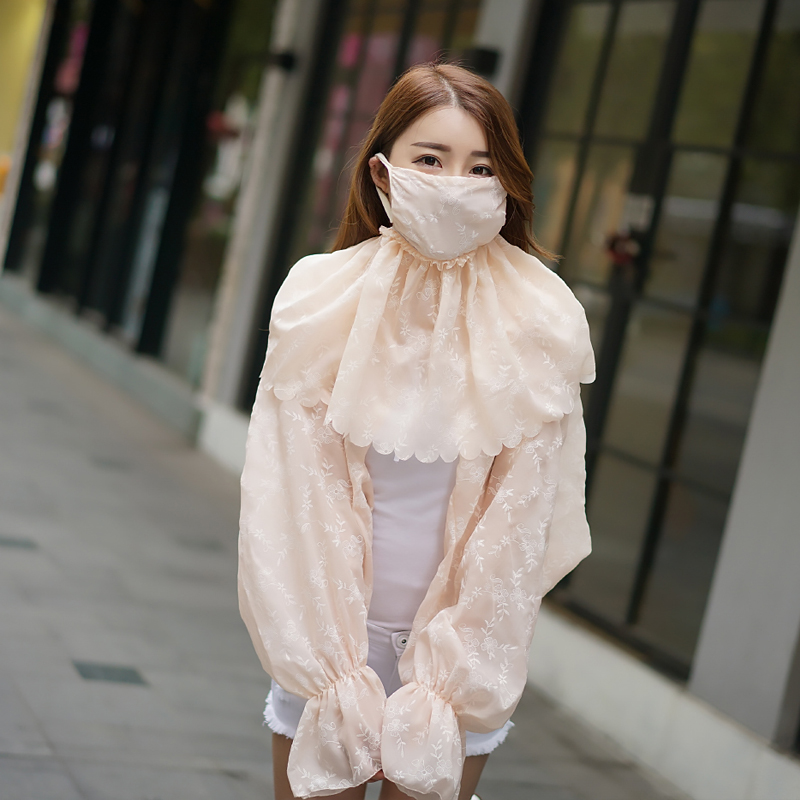face_mask: (386, 106, 502, 255)
